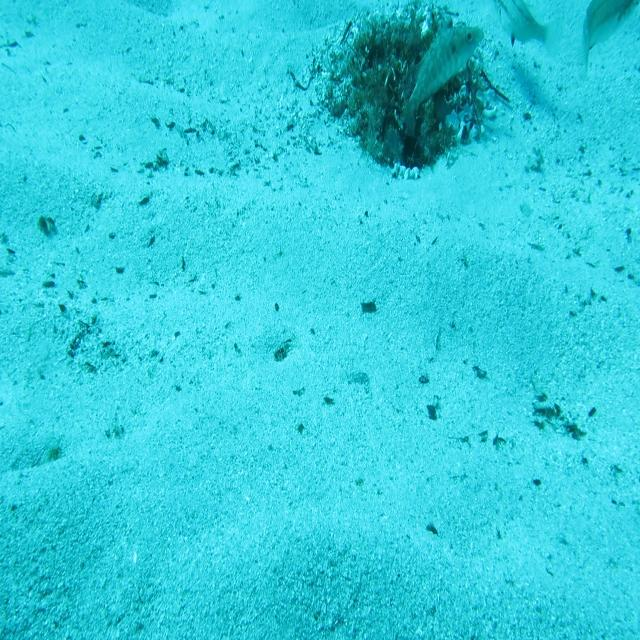LF: (400, 23, 486, 138)
core_nest: (383, 20, 436, 72)
female: (577, 0, 639, 82), (496, 0, 558, 78)
nest: (310, 0, 502, 188)
vegetation: (36, 209, 57, 242), (359, 298, 379, 317)
